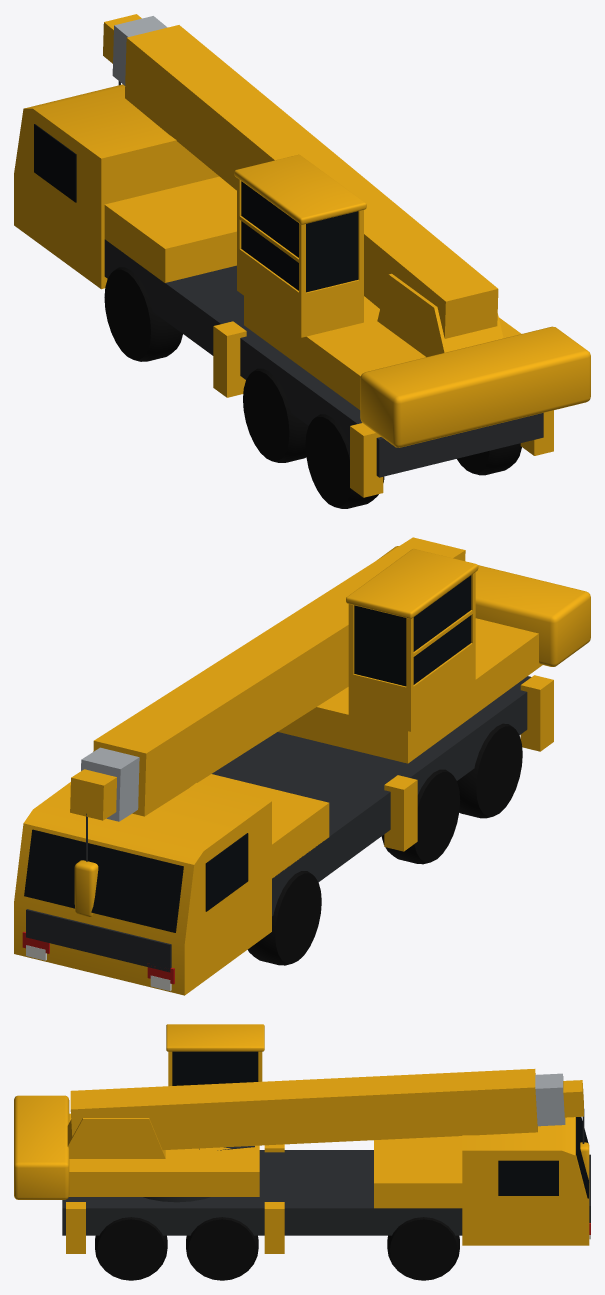
File: plant.lifting.mobile_crane_stowed.glb
3 views of the same model, one above another, from view 1: azimuth 30°, elevation 25°; view 2: azimuth 150°, elevation 25°; view 3: azimuth 270°, elevation 25° (orthographic). The views are drawn at different scales.
Visible parts, largest first — view 1: upper__plant_yellow, carrier__plant_yellow, boom__plant_yellow, carrier__steel_dark, wheels__rubber, upper__glass_dark, outriggers__plant_yellow, carrier__glass_dark, boom__steel_galvanised; view 2: carrier__plant_yellow, upper__plant_yellow, boom__plant_yellow, carrier__steel_dark, wheels__rubber, carrier__glass_dark, upper__glass_dark, outriggers__plant_yellow, boom__steel_galvanised, hook__plant_yellow; view 3: boom__plant_yellow, upper__plant_yellow, carrier__plant_yellow, carrier__steel_dark, wheels__rubber, upper__glass_dark, carrier__glass_dark, outriggers__plant_yellow, boom__steel_galvanised.
Boxes of the visible parts, left/top/right/bottom form: upper__plant_yellow: left=234, top=154, right=590, bottom=447; carrier__plant_yellow: left=14, top=84, right=236, bottom=289; boom__plant_yellow: left=103, top=14, right=498, bottom=338; carrier__steel_dark: left=104, top=239, right=543, bottom=477; wheels__rubber: left=104, top=267, right=521, bottom=508; upper__glass_dark: left=241, top=181, right=358, bottom=292; outriggers__plant_yellow: left=213, top=321, right=553, bottom=497; carrier__glass_dark: left=34, top=124, right=76, bottom=202; boom__steel_galvanised: left=112, top=16, right=167, bottom=85; carrier__plant_yellow: left=14, top=774, right=329, bottom=995; upper__plant_yellow: left=278, top=546, right=590, bottom=763; boom__plant_yellow: left=70, top=537, right=465, bottom=820; carrier__steel_dark: left=26, top=676, right=531, bottom=972; wheels__rubber: left=247, top=723, right=522, bottom=965; carrier__glass_dark: left=24, top=829, right=248, bottom=932; upper__glass_dark: left=354, top=575, right=471, bottom=686; outriggers__plant_yellow: left=384, top=675, right=553, bottom=851; boom__steel_galvanised: left=81, top=747, right=139, bottom=821; hook__plant_yellow: left=74, top=860, right=98, bottom=916; boom__plant_yellow: left=70, top=1069, right=583, bottom=1150; upper__plant_yellow: left=14, top=1024, right=264, bottom=1199; carrier__plant_yellow: left=374, top=1117, right=589, bottom=1245; carrier__steel_dark: left=62, top=1150, right=590, bottom=1235; wheels__rubber: left=95, top=1217, right=459, bottom=1280; upper__glass_dark: left=172, top=1051, right=258, bottom=1085; carrier__glass_dark: left=498, top=1117, right=588, bottom=1198; outriggers__plant_yellow: left=66, top=1144, right=284, bottom=1253; boom__steel_galvanised: left=535, top=1073, right=565, bottom=1126.
Bounding box in the file's own units: 3 × 3.95 × 10.46.
